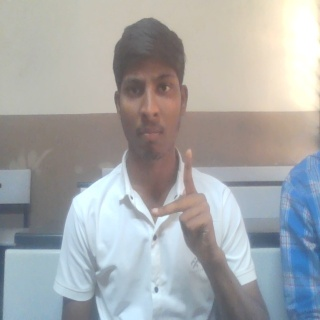Face: (114, 16, 187, 166)
Okay: (149, 147, 226, 273)
